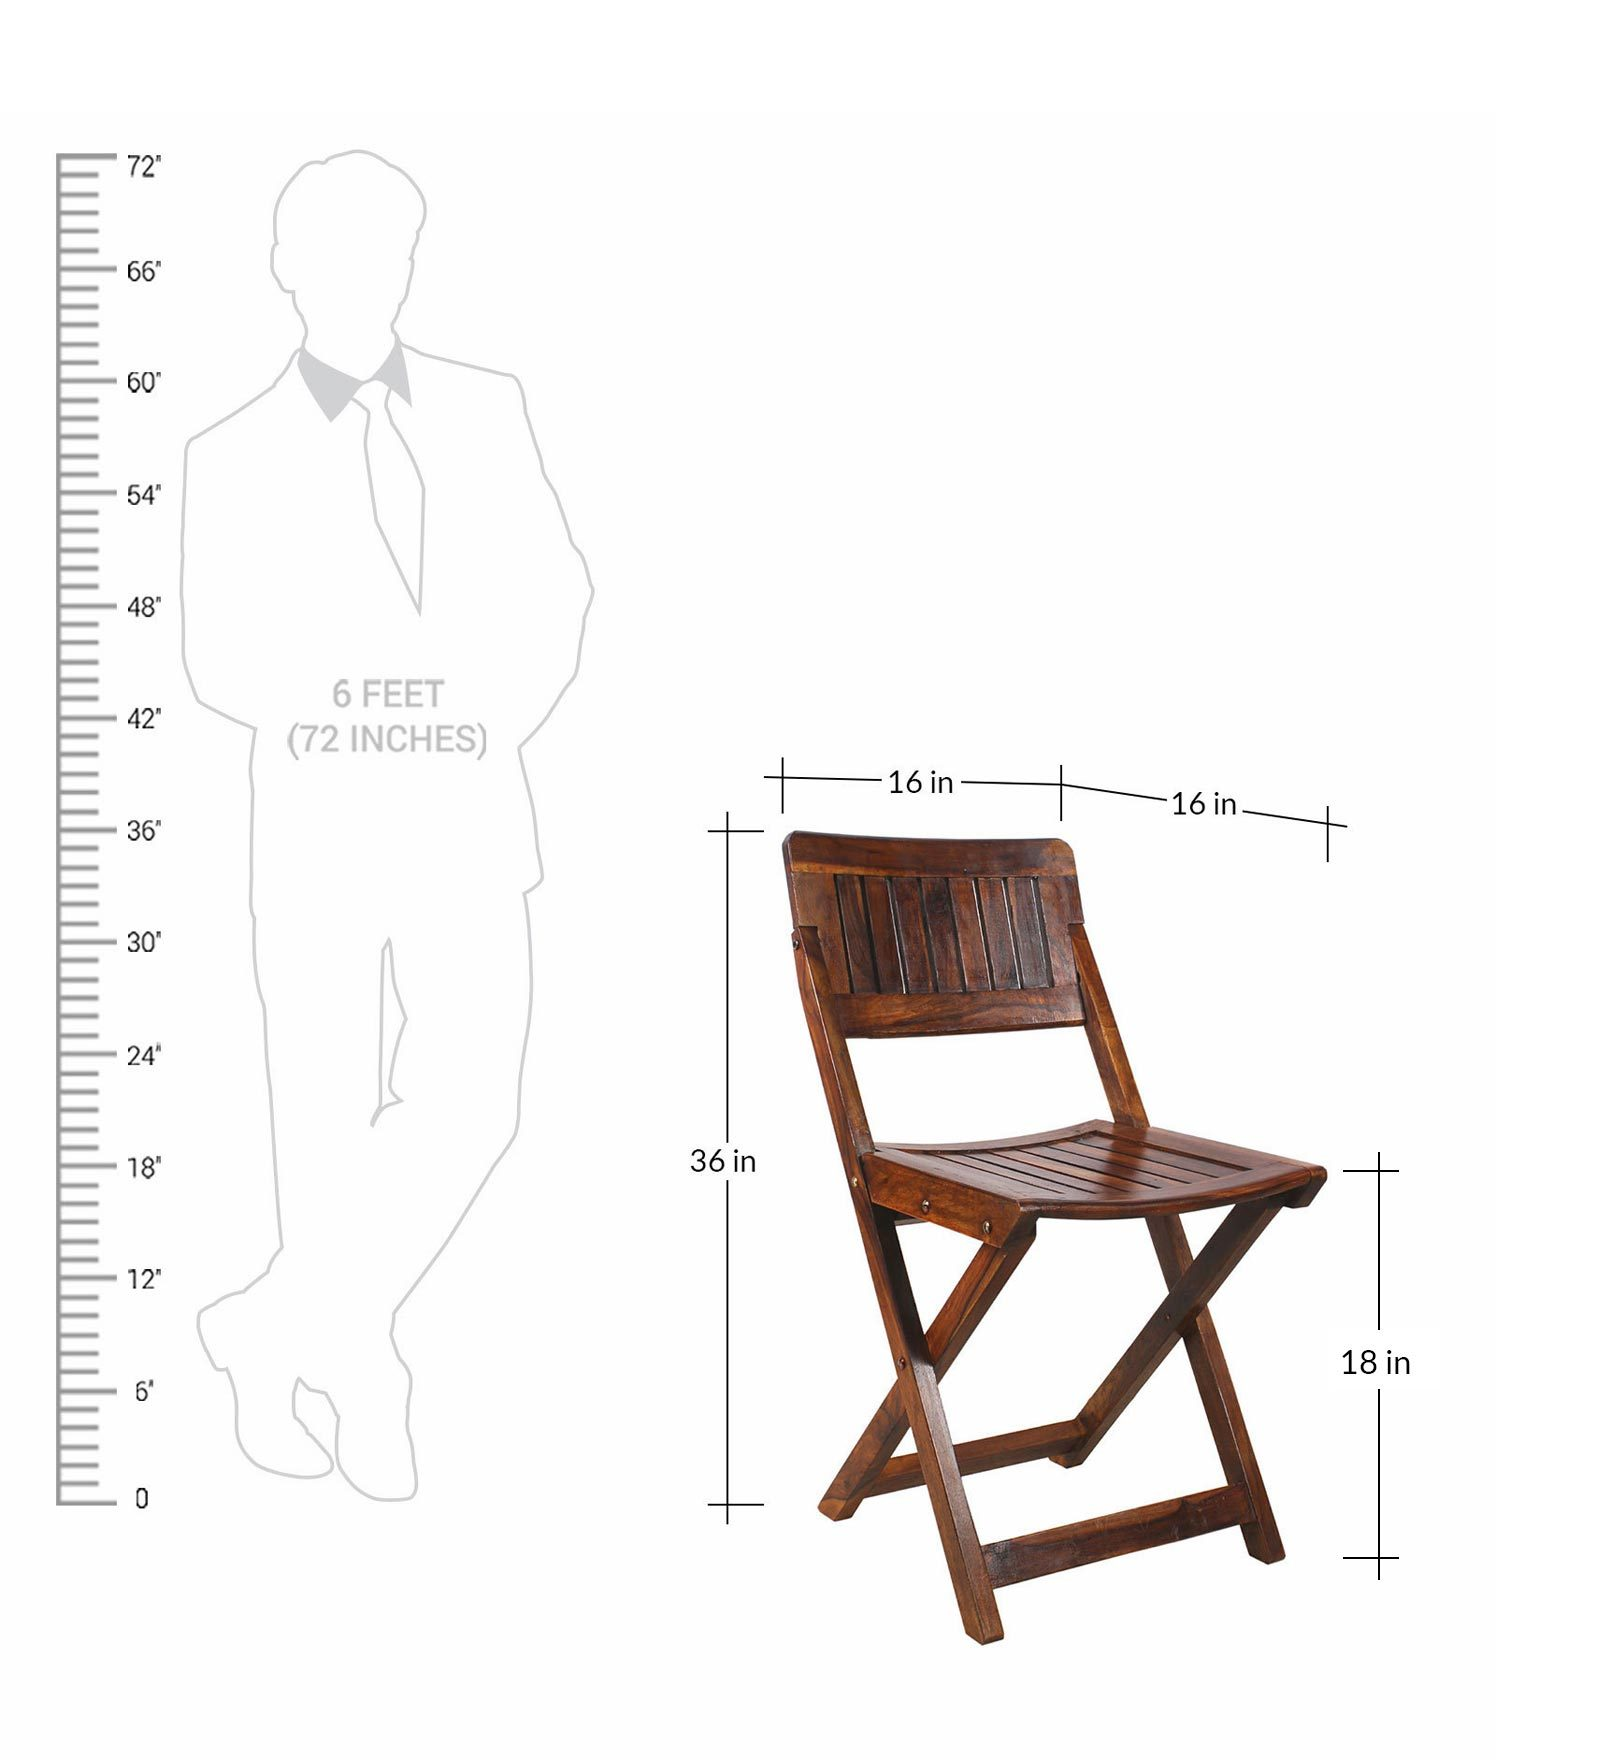Sheesham Wood Folding Chair in Walnut Finish by VarEesha: (769, 826, 1327, 1663)
